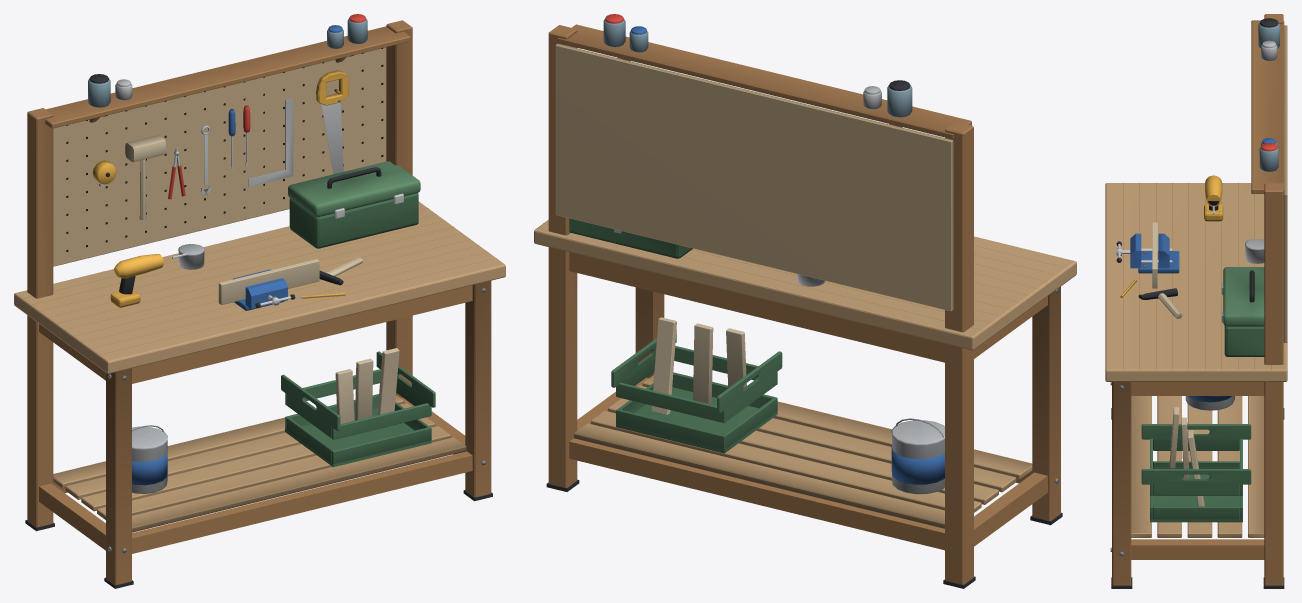
File: workbench.glb
The picture shows the model from 3 angles, left to right: view 1: azimuth 30°, elevation 25°; view 2: azimuth 150°, elevation 25°; view 3: azimuth 270°, elevation 25°; orthographic projection. The views are drawn at different scales.
Parts seen in each view (by area): view 1: body, vice_jaw_front; view 2: body; view 3: body, vice_jaw_front.
Boxes of the visible parts, x1,y1,x2,y2 form: body: [14, 14, 505, 588]; vice_jaw_front: [244, 278, 295, 309]; body: [534, 14, 1076, 588]; body: [1105, 14, 1287, 588]; vice_jaw_front: [1116, 233, 1172, 268].
Bounding box in the file's own units: 1.62 × 1.69 × 0.665.
